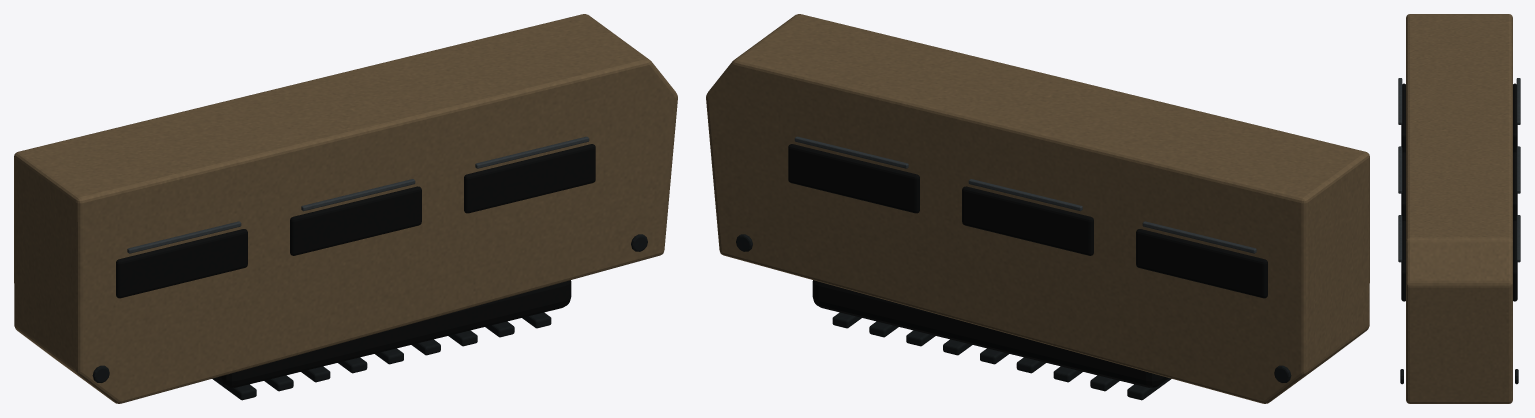
The model's file is kite01.handguard.standard.glb.
3 views of the same model, side by side, from view 1: azimuth 30°, elevation 25°; view 2: azimuth 150°, elevation 25°; view 3: azimuth 270°, elevation 25° (orthographic). The views are drawn at different scales.
Visible parts, largest first — view 1: VIS_kite01_handguard_standard; view 2: VIS_kite01_handguard_standard; view 3: VIS_kite01_handguard_standard.
Boxes of the visible parts, left/top/right/bottom form: VIS_kite01_handguard_standard: left=14, top=14, right=677, bottom=403; VIS_kite01_handguard_standard: left=706, top=14, right=1369, bottom=403; VIS_kite01_handguard_standard: left=1398, top=14, right=1520, bottom=403.
Size of the model in its own units: 0.2938 by 0.114 by 0.064.
Materials: 4 (4 with a texture image).
